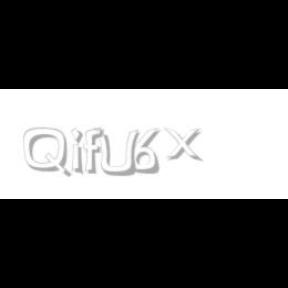6: (130, 128, 160, 176)
Q: (24, 128, 70, 178)
U: (94, 128, 138, 178)
f: (83, 128, 107, 174)
i: (71, 128, 87, 176)
x: (164, 128, 206, 162)
